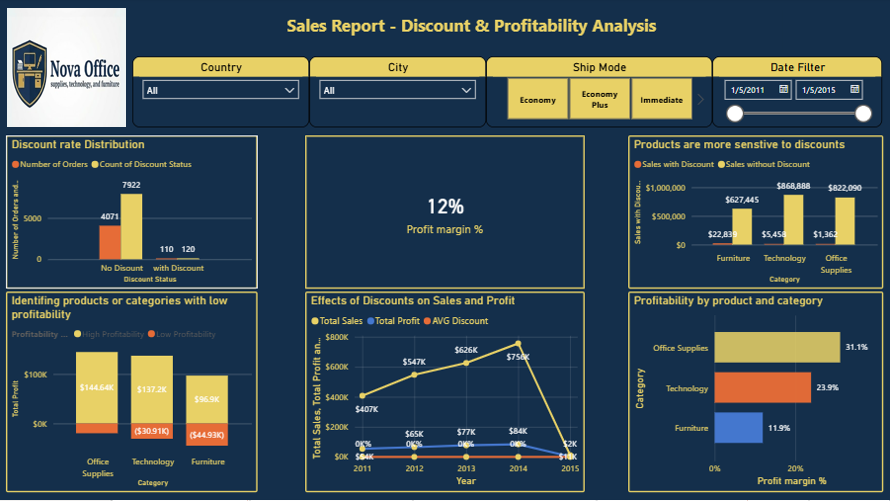

This screenshot's page, from the dashboard's own definition file:
{"tool":"powerbi","page":{"name":"Discount & Profitability Analysis","canvas":[1280,720],"ordinal":3},"visuals":[{"type":"slicer","title":"Date Filter ","fields":{"Values":["Dim_Date.Date"]},"box":[1023.3,83.6,243.8,102],"z":0},{"type":"slicer","title":"Ship Mode ","fields":{"Values":["Dim_Ship Mode.Ship Mode"]},"box":[698.7,83.6,324.6,102],"z":1000},{"type":"slicer","title":"City","fields":{"Values":["Dim_City.City"]},"box":[445,83.6,253.7,102],"z":2000},{"type":"slicer","title":"Country","fields":{"Values":["Dim_City.City"]},"box":[191.3,83.6,253.7,102],"z":3000},{"type":"textbox","box":[408.2,16.3,716.2,59.9],"z":4000},{"type":"lineChart","title":"Effects of Discounts on Sales and Profit ","fields":{"Category":["Dim_Date.Year"],"Y":["-Measures.Total Sales","-Measures.Total Profit","-Measures.AVG Discount"]},"box":[439.4,420.9,401.1,287.7],"z":5000},{"type":"clusteredColumnChart","title":"Discount rate Distribution","fields":{"Category":["Fact_Order Details.Discount Status"],"Y":["-Measures.Number of Orders","CountNonNull(Fact_Order Details.Discount Status)"]},"box":[9.9,197,361.4,219.7],"z":6000},{"type":"clusteredColumnChart","title":"Products are more senstive to discounts","fields":{"Category":["Dim_Category.Category"],"Y":["-Measures.Sales with Discount","-Measures.Sales without Discount"]},"box":[902.8,197,365.7,219.7],"z":7000},{"type":"card","fields":{"Values":["-Measures.profit margin %"]},"box":[439.4,197,401.1,219.7],"z":8000},{"type":"clusteredBarChart","title":"Profitability by product and category","fields":{"Y":["-Measures.Profit margin %"],"Category":["Dim_Category.Category"]},"box":[902.8,420.9,365.7,287.7],"z":9000},{"type":"columnChart","title":"Identifing products or categories with low profitability","fields":{"Category":["Dim_Category.Category"],"Y":["-Measures.Total Profit"],"Series":["Dim_Product.Profitability Flag"]},"box":[9.9,420.9,361.4,287.7],"z":10000}]}

Visuals, with their boxes in screenshot pixels (x1, y1, x2, y2), scaled from the page's 1280x720 canvas onto the 891x502 screenshot:
"Date Filter " slicer: (left=712, top=58, right=882, bottom=129)
"Ship Mode " slicer: (left=486, top=58, right=712, bottom=129)
"City" slicer: (left=310, top=58, right=486, bottom=129)
"Country" slicer: (left=133, top=58, right=310, bottom=129)
textbox: (left=284, top=11, right=783, bottom=53)
"Effects of Discounts on Sales and Profit " lineChart: (left=306, top=293, right=585, bottom=494)
"Discount rate Distribution" clusteredColumnChart: (left=7, top=137, right=258, bottom=291)
"Products are more senstive to discounts" clusteredColumnChart: (left=628, top=137, right=883, bottom=291)
card - -Measures.profit margin %: (left=306, top=137, right=585, bottom=291)
"Profitability by product and category" clusteredBarChart: (left=628, top=293, right=883, bottom=494)
"Identifing products or categories with low profitability" columnChart: (left=7, top=293, right=258, bottom=494)
